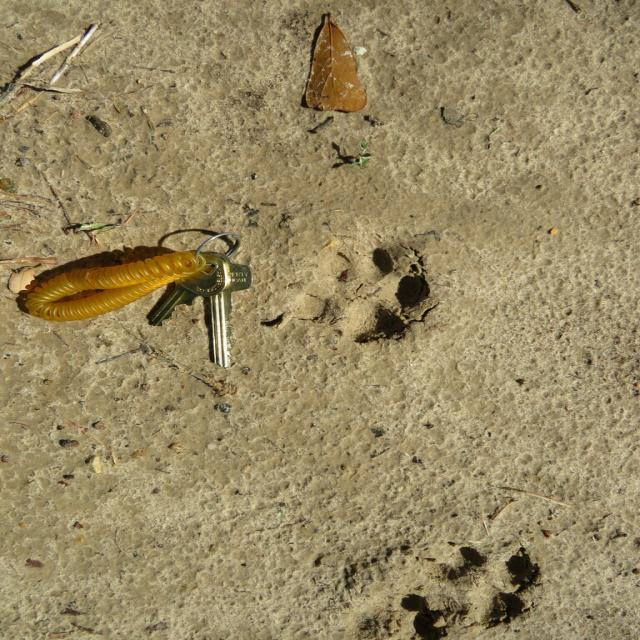canid: (295, 245, 435, 345), (430, 544, 542, 632)
